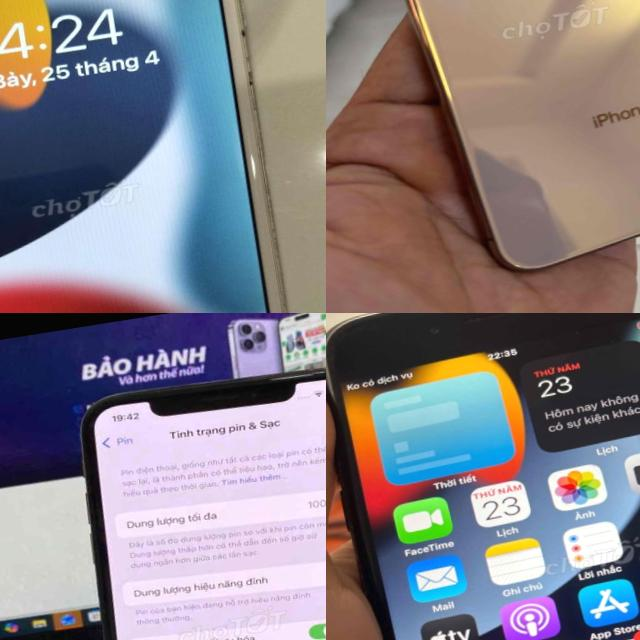scratch: (237, 89, 314, 313)
